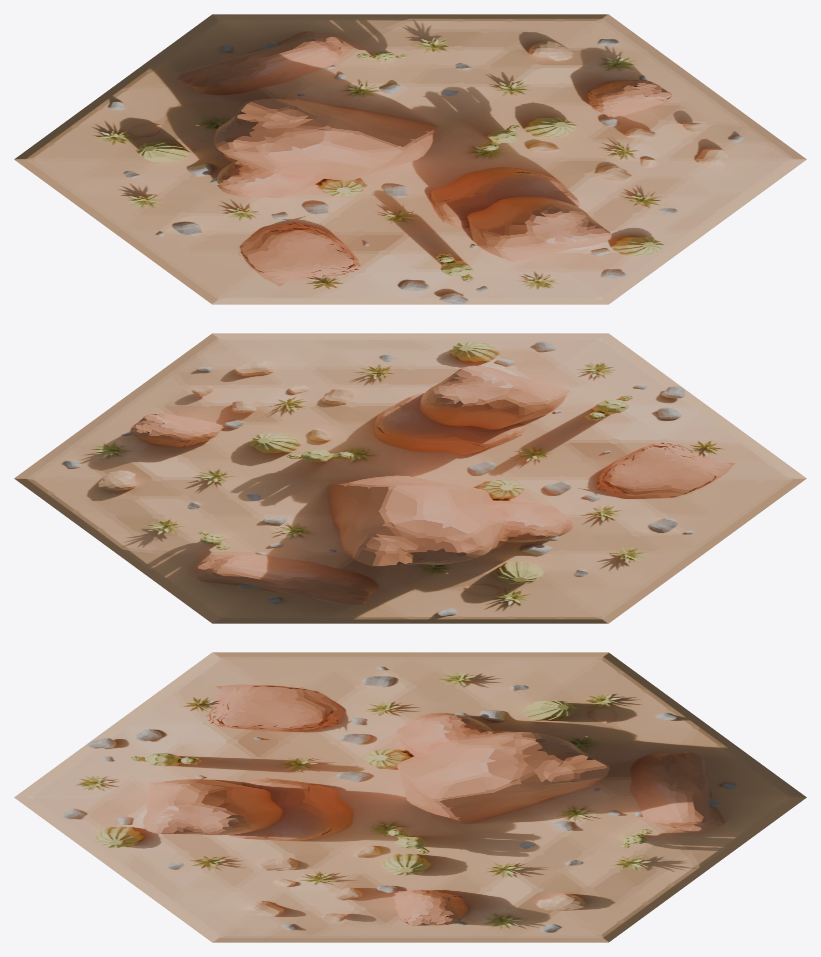
Rendered from temperateDesert.glb.
3 views of the same model, one above another, from view 1: azimuth 30°, elevation 25°; view 2: azimuth 150°, elevation 25°; view 3: azimuth 270°, elevation 25° (orthographic).
Parts seen in each view (by area): view 1: Deciduousforest_flat; view 2: Deciduousforest_flat; view 3: Deciduousforest_flat.
Boxes of the visible parts, box(x1,y1,x2,y2) form: Deciduousforest_flat: box(14, 14, 806, 304); Deciduousforest_flat: box(14, 333, 806, 623); Deciduousforest_flat: box(14, 652, 806, 942).
Bounding box in the file's own units: 1.73 × 0 × 2.
1 material, 1 textured.
